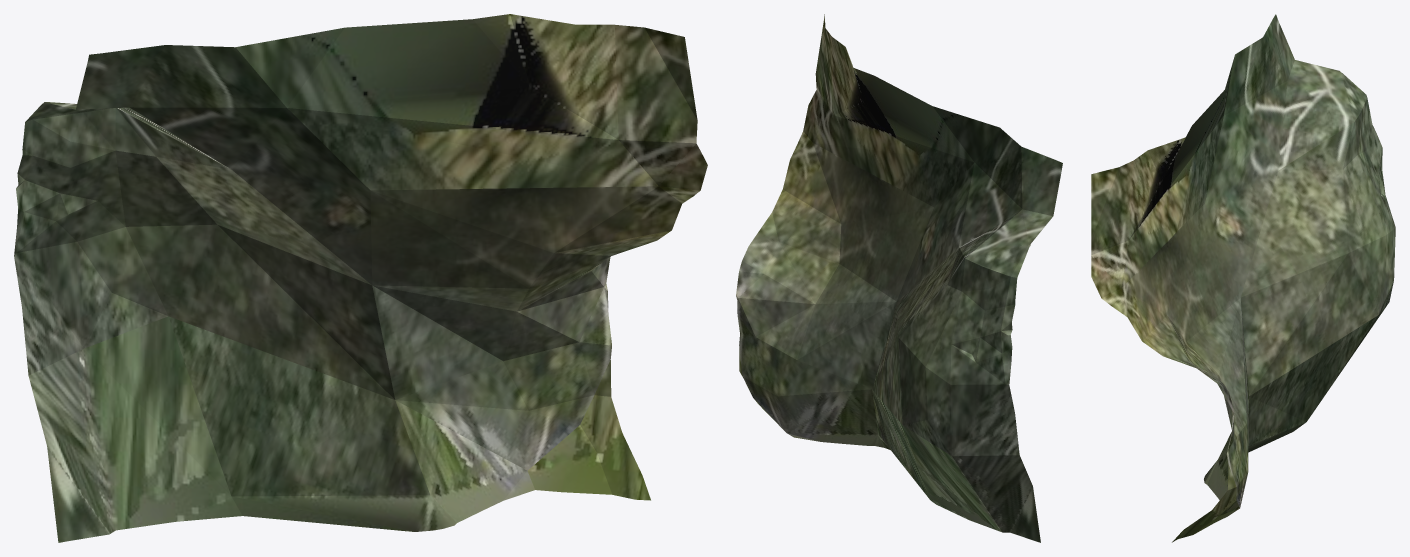
3 views of the same model, side by side, from view 1: azimuth 30°, elevation 25°; view 2: azimuth 150°, elevation 25°; view 3: azimuth 270°, elevation 25° (orthographic). The views are drawn at different scales.
Size of the model in its own units: 2.95 by 2.95 by 2.26.
Materials: 3 (3 with a texture image).
